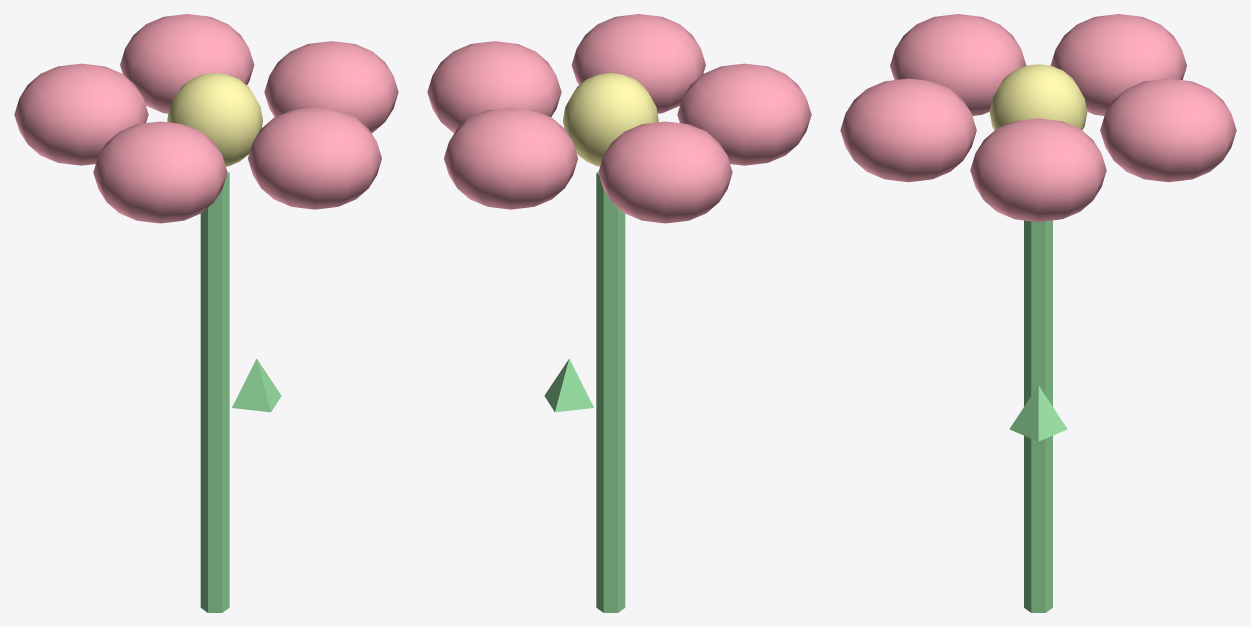
Rendered from flower_4.glb.
3 views of the same model, side by side, from view 1: azimuth 30°, elevation 25°; view 2: azimuth 150°, elevation 25°; view 3: azimuth 270°, elevation 25° (orthographic).
Visible parts, largest first — view 1: stem, petal_4, petal_3, petal_2, petal_0, petal_1, center, leaf; view 2: stem, petal_1, petal_2, petal_3, petal_0, petal_4, center, leaf; view 3: petal_1, petal_4, petal_0, stem, petal_3, petal_2, center, leaf.
Part boxes in pixels (x1,y1,x2,y2): stem: [200, 171, 229, 612]; petal_4: [248, 107, 381, 209]; petal_3: [93, 121, 227, 223]; petal_2: [14, 63, 148, 165]; petal_0: [264, 41, 398, 133]; petal_1: [120, 14, 254, 113]; center: [167, 73, 262, 166]; leaf: [232, 358, 281, 412]; stem: [596, 171, 625, 612]; petal_1: [444, 107, 577, 209]; petal_2: [598, 121, 732, 223]; petal_3: [677, 63, 811, 165]; petal_0: [427, 41, 561, 132]; petal_4: [571, 14, 705, 113]; center: [563, 73, 658, 166]; leaf: [544, 358, 593, 412]; petal_1: [1100, 78, 1236, 182]; petal_4: [840, 78, 976, 182]; petal_0: [970, 118, 1106, 221]; stem: [1024, 220, 1052, 612]; petal_3: [890, 14, 1026, 115]; petal_2: [1050, 14, 1186, 115]; center: [989, 64, 1087, 130]; leaf: [1009, 385, 1067, 441].
Size of the model in its own units: 0.3933 by 0.61 by 0.4063.
